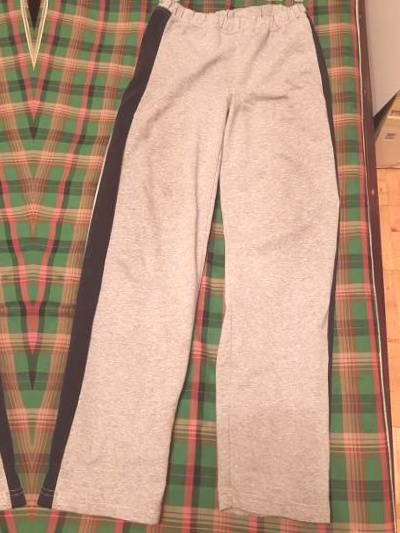Pants: (53, 8, 356, 533), (0, 6, 12, 533)
